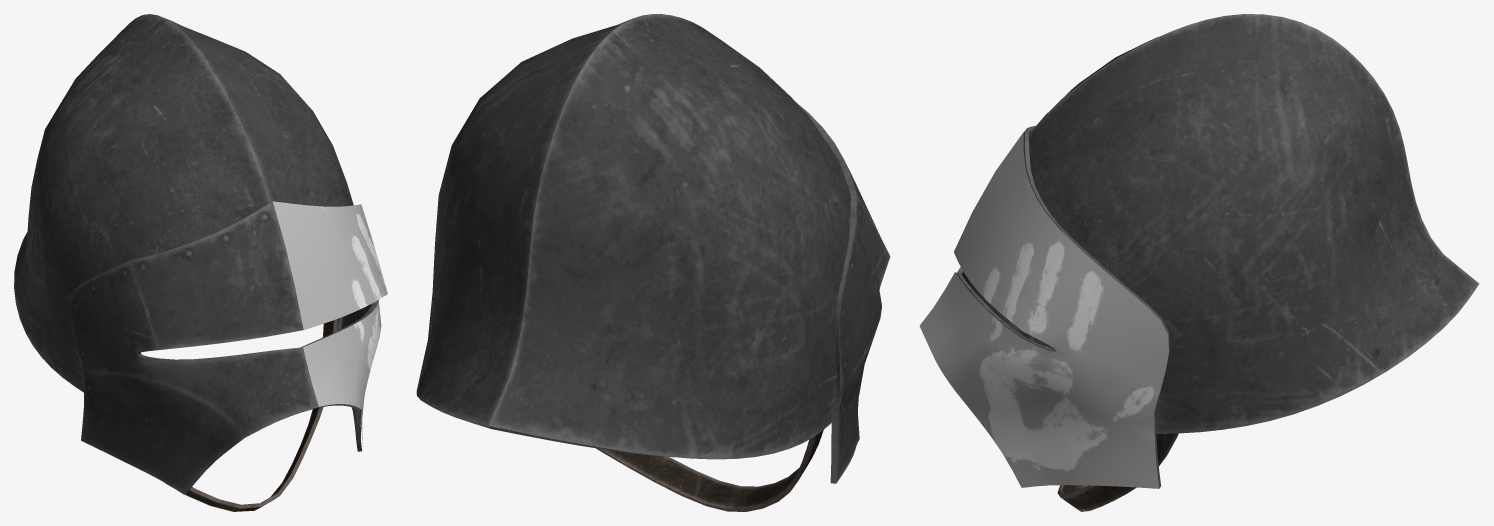
File: sk_uruk_hai_helmet_sword_light_a2.fbx
3 views of the same model, side by side, from view 1: azimuth 30°, elevation 25°; view 2: azimuth 150°, elevation 25°; view 3: azimuth 270°, elevation 25° (orthographic). The views are drawn at different scales.
Parts seen in each view (by area): view 1: sk_uruk_hai_helmet_sword_light_a2.2, sk_uruk_hai_helmet_sword_light_a2.0, sk_uruk_hai_helmet_sword_light_a2.1; view 2: sk_uruk_hai_helmet_sword_light_a2.2, sk_uruk_hai_helmet_sword_light_a2.1; view 3: sk_uruk_hai_helmet_sword_light_a2.2, sk_uruk_hai_helmet_sword_light_a2.0, sk_uruk_hai_helmet_sword_light_a2.1.
Part boxes in pixels (x1=…): sk_uruk_hai_helmet_sword_light_a2.2: x1=14, y1=14, x2=377, y2=494; sk_uruk_hai_helmet_sword_light_a2.0: x1=273, y1=201, x2=387, y2=446; sk_uruk_hai_helmet_sword_light_a2.1: x1=165, y1=319, x2=337, y2=511; sk_uruk_hai_helmet_sword_light_a2.2: x1=416, y1=14, x2=890, y2=483; sk_uruk_hai_helmet_sword_light_a2.1: x1=596, y1=430, x2=823, y2=511; sk_uruk_hai_helmet_sword_light_a2.2: x1=956, y1=14, x2=1479, y2=488; sk_uruk_hai_helmet_sword_light_a2.0: x1=919, y1=132, x2=1168, y2=488; sk_uruk_hai_helmet_sword_light_a2.1: x1=1057, y1=433, x2=1178, y2=511.
Size of the model in its own units: 0.209 by 0.3242 by 0.3125.
Materials: 3 (3 with a texture image).
